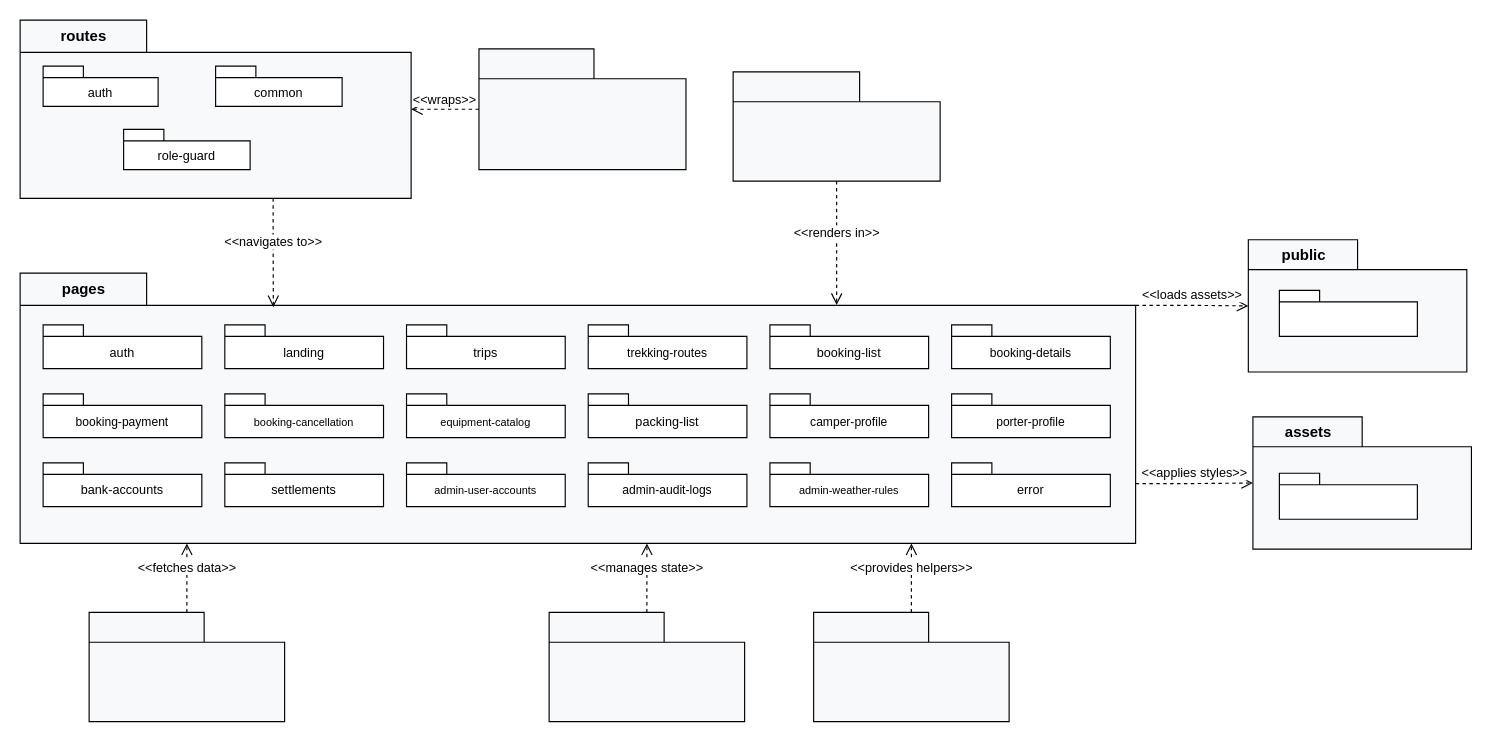
This 1492x742 diagram has some shape labels left out. Each missing label, with the centre of its shape:
"components" goes at pixel 836 126.
"css" goes at pixel 1347 495.
"image" goes at pixel 1347 312.
"layouts" goes at pixel 582 109.
"services" goes at pixel 186 666.
"store" goes at pixel 646 666.
"utils" goes at pixel 910 666.
